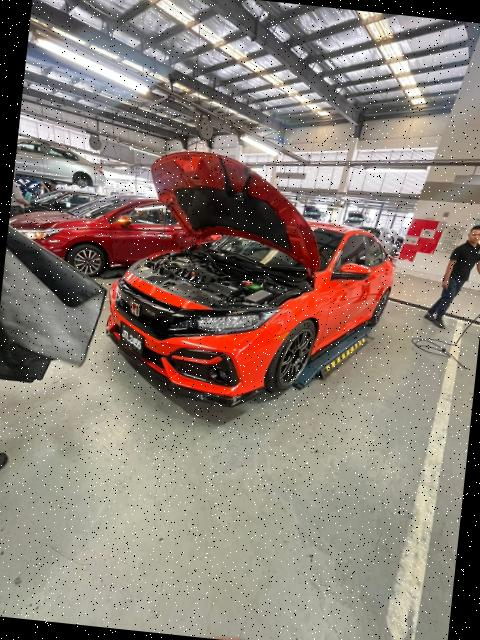License_Plate: (111, 320, 155, 362)
car: (91, 135, 408, 424)
